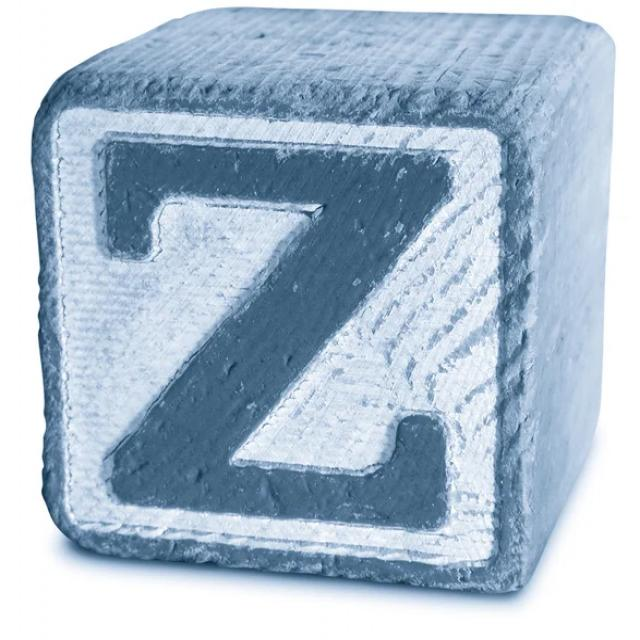Z: (82, 122, 474, 534)
